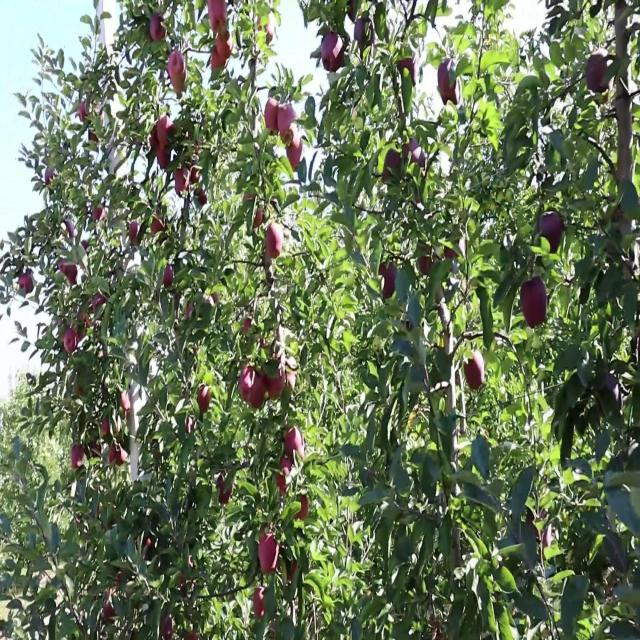apple: (520, 277, 549, 329), (584, 49, 611, 94), (240, 369, 265, 412), (540, 213, 565, 256), (260, 533, 280, 576), (440, 63, 459, 107), (324, 35, 345, 73), (464, 355, 484, 391), (156, 113, 176, 149), (212, 35, 232, 71), (208, 0, 228, 34), (404, 142, 427, 171), (284, 426, 304, 459), (268, 362, 285, 400), (384, 149, 403, 183), (380, 263, 397, 299), (276, 462, 294, 496), (288, 135, 304, 171), (192, 170, 208, 206), (280, 106, 296, 140), (268, 227, 284, 261), (264, 99, 279, 135), (280, 455, 294, 491), (168, 49, 185, 78), (400, 56, 417, 85), (152, 14, 167, 43), (256, 21, 275, 43), (104, 590, 117, 620), (280, 120, 295, 146), (108, 447, 126, 468), (172, 71, 188, 94), (160, 611, 173, 639), (156, 149, 172, 171), (92, 291, 108, 313), (200, 383, 212, 412), (256, 590, 268, 619), (220, 476, 232, 505), (176, 170, 189, 196), (164, 263, 175, 292), (124, 391, 135, 420), (296, 497, 309, 521), (72, 447, 85, 469), (64, 334, 77, 356), (152, 120, 161, 151), (104, 597, 116, 620), (420, 255, 432, 277), (196, 184, 208, 206), (356, 21, 366, 46), (288, 561, 299, 583), (116, 447, 127, 469), (100, 419, 112, 439), (68, 263, 79, 284), (80, 312, 92, 331), (20, 277, 34, 293), (152, 127, 161, 151), (152, 220, 166, 235), (444, 248, 458, 263), (92, 440, 103, 459), (92, 206, 106, 220), (132, 220, 140, 244), (196, 191, 208, 206), (208, 291, 220, 306), (68, 220, 76, 242), (288, 369, 296, 391), (192, 170, 202, 187), (144, 540, 153, 558), (108, 447, 117, 464), (60, 263, 69, 277), (80, 106, 88, 121), (188, 419, 196, 434), (256, 213, 264, 228), (76, 383, 84, 398), (244, 319, 252, 334), (48, 170, 55, 185), (188, 305, 193, 318), (92, 135, 100, 142), (104, 383, 108, 396), (84, 241, 88, 251)
